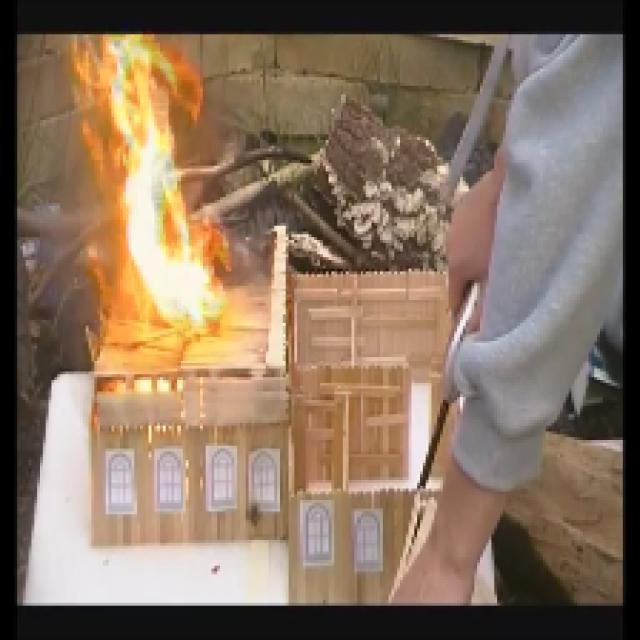fire: (73, 38, 228, 358)
